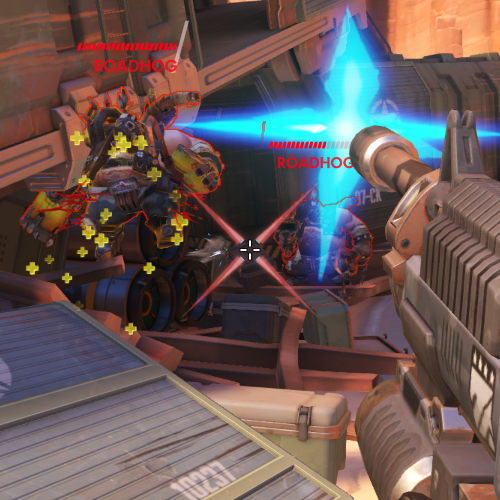hpbar: (76, 42, 194, 51), (268, 141, 352, 149)
